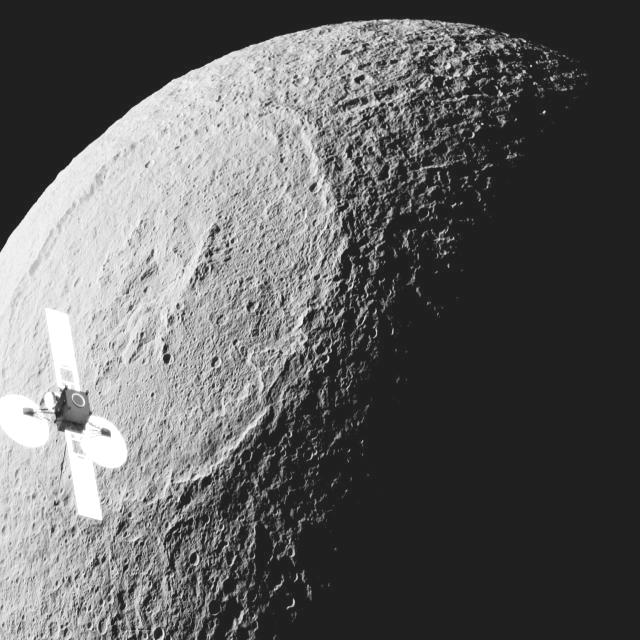satellite: (0, 301, 140, 522)
